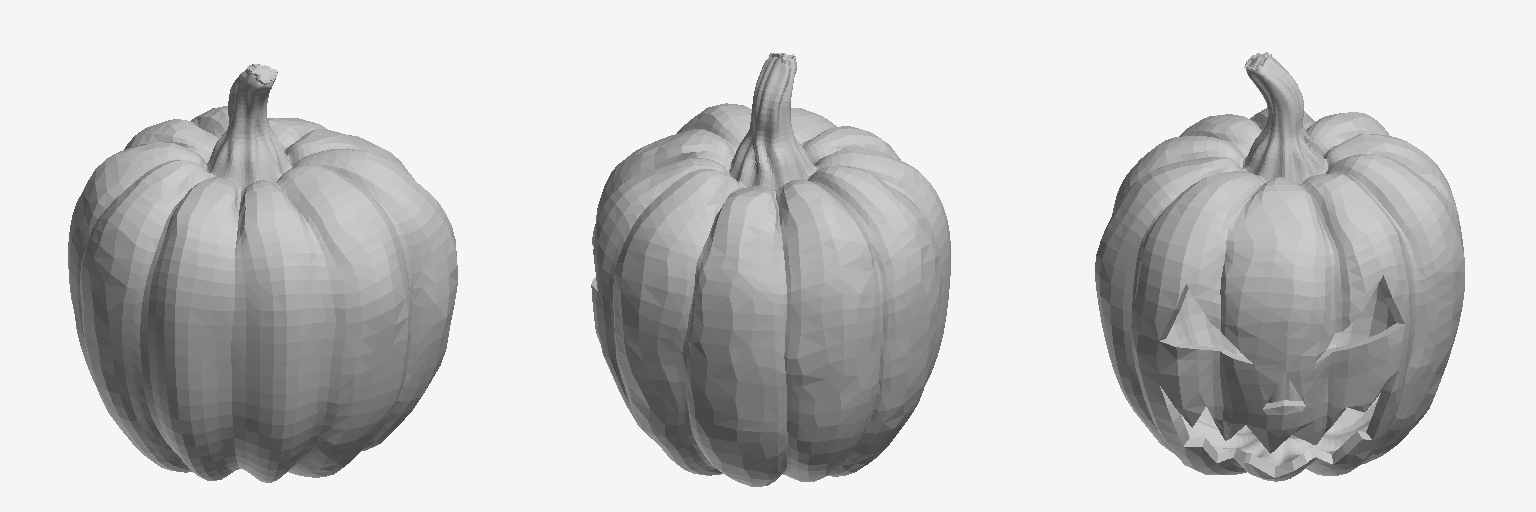
The model's file is pumpkin.obj.
3 renders of one model, left to right at view 1: azimuth 30°, elevation 25°; view 2: azimuth 150°, elevation 25°; view 3: azimuth 270°, elevation 25°, orthographic.
Visible parts, largest first — view 1: uploads_files_[number redacted]_jack_o_lantern; view 2: uploads_files_[number redacted]_jack_o_lantern; view 3: uploads_files_[number redacted]_jack_o_lantern.
Boxes of the visible parts, x1=… form: uploads_files_[number redacted]_jack_o_lantern: x1=68, y1=64, x2=457, y2=482; uploads_files_[number redacted]_jack_o_lantern: x1=591, y1=53, x2=950, y2=486; uploads_files_[number redacted]_jack_o_lantern: x1=1095, y1=52, x2=1464, y2=481.
Size of the model in its own units: 2.85 by 3.35 by 2.82.